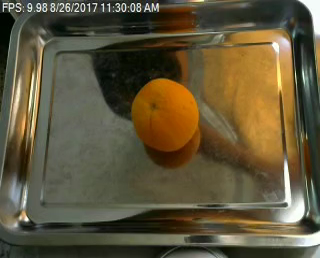Orange: (130, 77, 197, 151)
